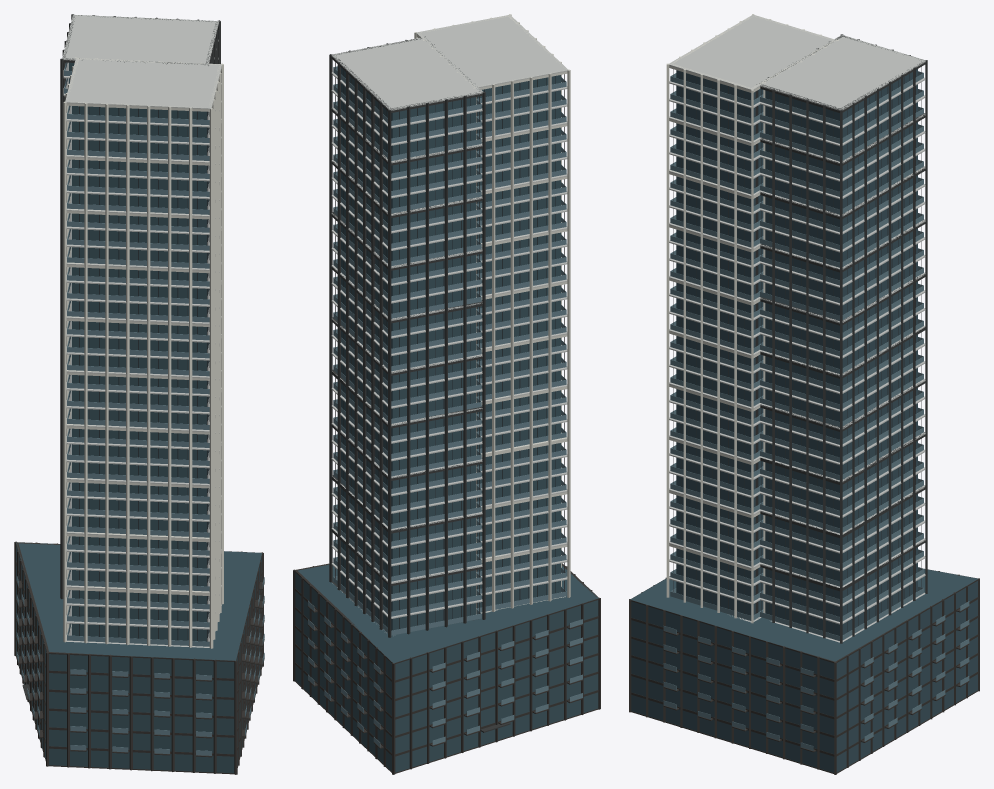
The model's file is mcity-m5-design-detail.glb.
3 renders of one model, left to right at view 1: azimuth 30°, elevation 25°; view 2: azimuth 150°, elevation 25°; view 3: azimuth 270°, elevation 25°, orthographic. The views are drawn at different scales.
Visible parts, largest first — view 1: White staggered tower recessed opaque glazing, Proxy-registered six-storey podium opaque glazing, White grid vertical frames, White recessed balcony opaque guards, White inset balcony floor slabs, Masonry podium vertical piers, Black inset balcony floor slabs, White three-storey grid horizontal frame, White recessed glazing mullions, Masonry podium floor bands, Podium opaque glass guards, Podium projecting balcony slabs, approximate bay layout (+1 smaller); view 2: Proxy-registered six-storey podium opaque glazing, Black staggered tower recessed opaque glazing, Black grid vertical frames, Black recessed balcony opaque guards, White staggered tower recessed opaque glazing, Black inset balcony floor slabs, White recessed balcony opaque guards, White inset balcony floor slabs, White grid vertical frames, Masonry podium vertical piers, Black recessed glazing mullions, Black three-storey grid horizontal frame (+5 smaller); view 3: Black staggered tower recessed opaque glazing, Proxy-registered six-storey podium opaque glazing, Black recessed balcony opaque guards, White staggered tower recessed opaque glazing, Black grid vertical frames, Black inset balcony floor slabs, White recessed balcony opaque guards, White inset balcony floor slabs, White grid vertical frames, Masonry podium vertical piers, Black three-storey grid horizontal frame, Black recessed glazing mullions (+5 smaller).
Boxes of the visible parts, box(x1,y1,x2,y2) form: White staggered tower recessed opaque glazing: box(71, 106, 209, 641); Proxy-registered six-storey podium opaque glazing: box(16, 542, 261, 773); White grid vertical frames: box(63, 57, 223, 648); White recessed balcony opaque guards: box(67, 105, 209, 646); White inset balcony floor slabs: box(65, 58, 221, 647); Masonry podium vertical piers: box(14, 541, 263, 774); Black inset balcony floor slabs: box(62, 14, 219, 96); White three-storey grid horizontal frame: box(65, 58, 221, 637); White recessed glazing mullions: box(69, 106, 209, 641); Masonry podium floor bands: box(16, 542, 262, 774); Podium opaque glass guards: box(16, 576, 264, 755); Podium projecting balcony slabs, approximate bay layout: box(16, 580, 264, 757); Proxy-registered six-storey podium opaque glazing: box(295, 564, 598, 772); Black staggered tower recessed opaque glazing: box(341, 68, 475, 630); Black grid vertical frames: box(329, 36, 485, 637); Black recessed balcony opaque guards: box(333, 66, 481, 635); White staggered tower recessed opaque glazing: box(477, 75, 560, 608); Black inset balcony floor slabs: box(331, 37, 482, 632); White recessed balcony opaque guards: box(476, 77, 566, 612); White inset balcony floor slabs: box(416, 15, 568, 613); White grid vertical frames: box(414, 14, 570, 614); Masonry podium vertical piers: box(293, 566, 600, 774); Black recessed glazing mullions: box(335, 62, 479, 628); Black three-storey grid horizontal frame: box(331, 37, 482, 622); Black staggered tower recessed opaque glazing: box(765, 69, 917, 635); Proxy-registered six-storey podium opaque glazing: box(630, 569, 978, 772); Black recessed balcony opaque guards: box(759, 71, 923, 640); White staggered tower recessed opaque glazing: box(676, 70, 763, 615); Black grid vertical frames: box(755, 34, 927, 643); Black inset balcony floor slabs: box(758, 35, 925, 642); White recessed balcony opaque guards: box(670, 73, 763, 620); White inset balcony floor slabs: box(669, 14, 836, 622); White grid vertical frames: box(666, 14, 838, 623); Masonry podium vertical piers: box(629, 567, 979, 774); Black three-storey grid horizontal frame: box(759, 35, 925, 610); Black recessed glazing mullions: box(761, 67, 921, 633).
Bounding box in the file's own units: 50.13 × 118 × 58.15.
